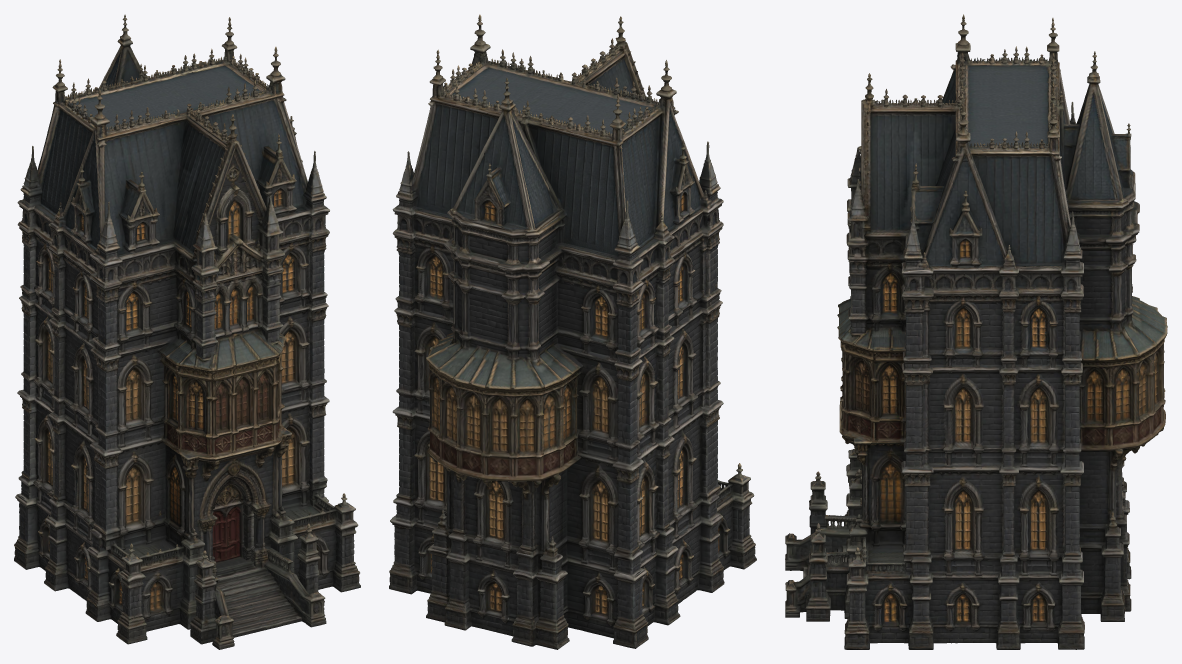
Rendered from gothic_cathedral9.glb.
3 views of the same model, side by side, from view 1: azimuth 30°, elevation 25°; view 2: azimuth 150°, elevation 25°; view 3: azimuth 270°, elevation 25° (orthographic). The views are drawn at different scales.
Size of the model in its own units: 0.468 by 0.9825 by 0.6316.
Materials: 1 (1 with a texture image).
